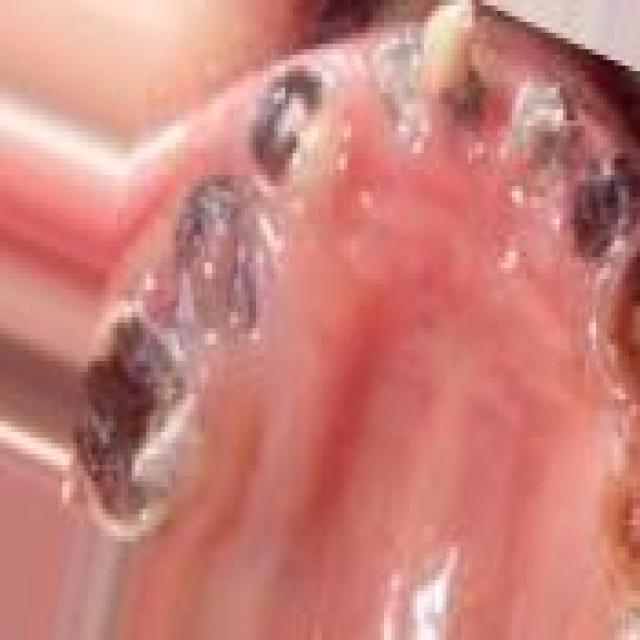caries: (72, 312, 200, 546), (160, 176, 291, 347), (389, 0, 490, 143), (241, 60, 345, 195), (559, 142, 640, 268), (494, 60, 568, 180)
